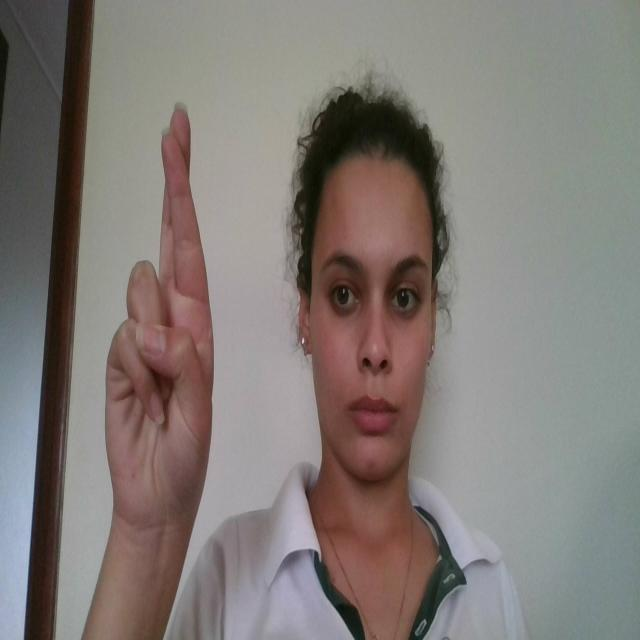R: (96, 98, 216, 516)
